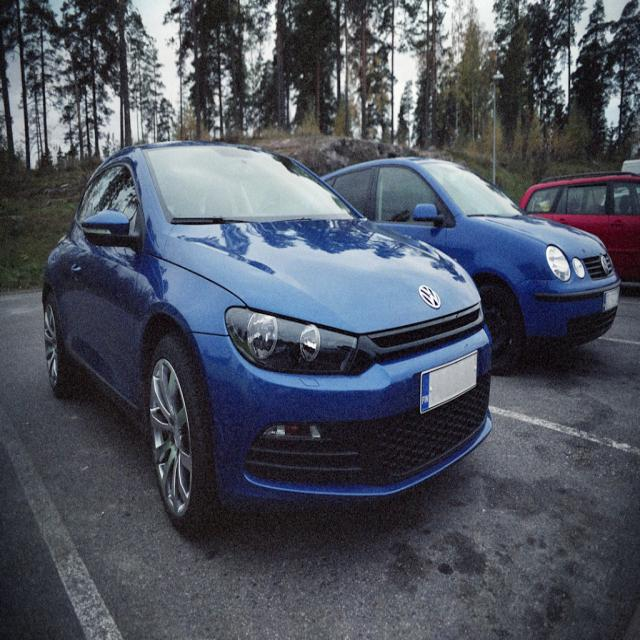car: (41, 142, 496, 528)
